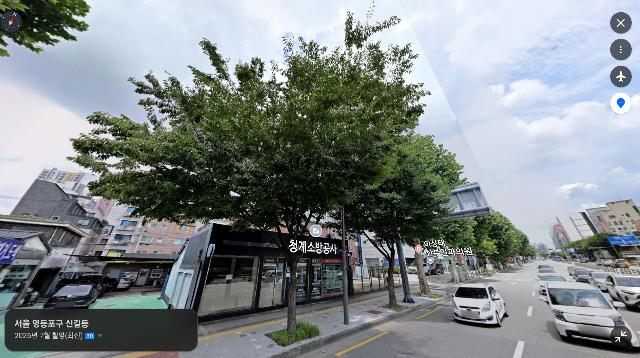other: (66, 6, 432, 343), (336, 133, 468, 309), (402, 135, 479, 298), (0, 0, 91, 57), (448, 202, 500, 278), (477, 211, 527, 272), (564, 235, 603, 263), (515, 236, 537, 266)
